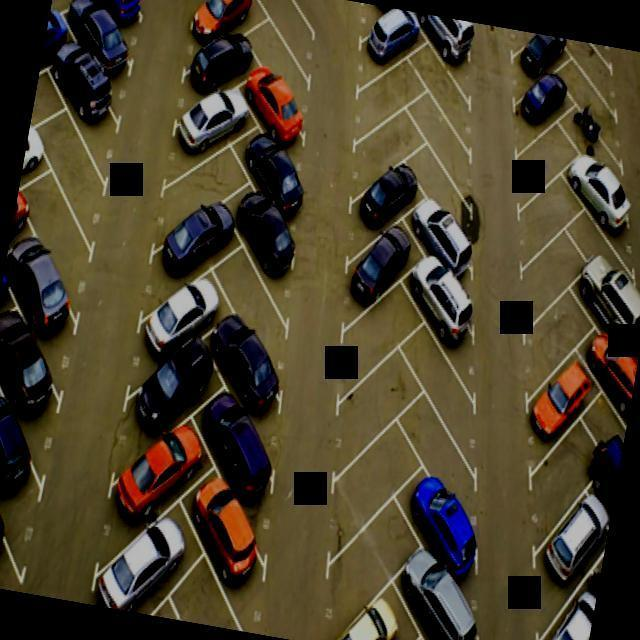space-empty: (321, 481, 415, 637), (391, 378, 491, 524), (9, 158, 103, 308), (322, 410, 412, 565), (330, 334, 422, 479), (397, 316, 489, 442), (28, 104, 111, 230), (149, 137, 241, 242), (522, 414, 593, 550), (337, 272, 410, 400), (520, 281, 585, 409), (510, 107, 578, 215), (220, 250, 293, 346), (408, 88, 479, 185), (404, 143, 480, 231), (511, 161, 576, 263), (567, 199, 637, 290), (246, 13, 313, 106), (555, 54, 624, 141), (349, 55, 416, 144), (351, 102, 415, 194), (521, 215, 579, 314), (407, 42, 475, 125), (576, 379, 634, 474), (249, 0, 314, 58), (557, 39, 619, 97)
space-occupied: (189, 384, 285, 518), (0, 228, 87, 374), (110, 405, 199, 542), (392, 461, 484, 587), (0, 302, 77, 452), (182, 473, 271, 600), (42, 33, 126, 157), (199, 307, 289, 422), (399, 247, 479, 372), (536, 485, 608, 623), (96, 507, 186, 612), (136, 262, 219, 375), (394, 545, 487, 640), (132, 329, 210, 442), (524, 342, 591, 471), (572, 305, 640, 419), (54, 0, 137, 93), (152, 194, 231, 287), (573, 252, 640, 361), (0, 391, 50, 527), (173, 77, 243, 174), (247, 58, 311, 158), (241, 126, 305, 226), (343, 220, 407, 320), (350, 155, 415, 249), (236, 185, 298, 283), (407, 196, 478, 279), (564, 149, 628, 237), (185, 26, 252, 103), (532, 566, 600, 640), (355, 4, 416, 83), (558, 97, 623, 167), (413, 14, 474, 82), (515, 74, 568, 148), (582, 450, 622, 546), (508, 30, 560, 101), (185, 0, 255, 52), (0, 469, 30, 582), (75, 0, 146, 42)
